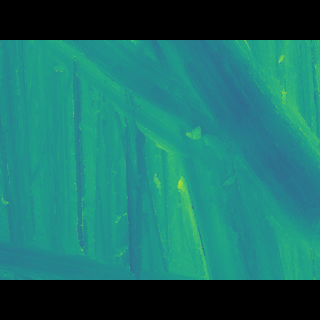Loch: (32, 69, 320, 233)
